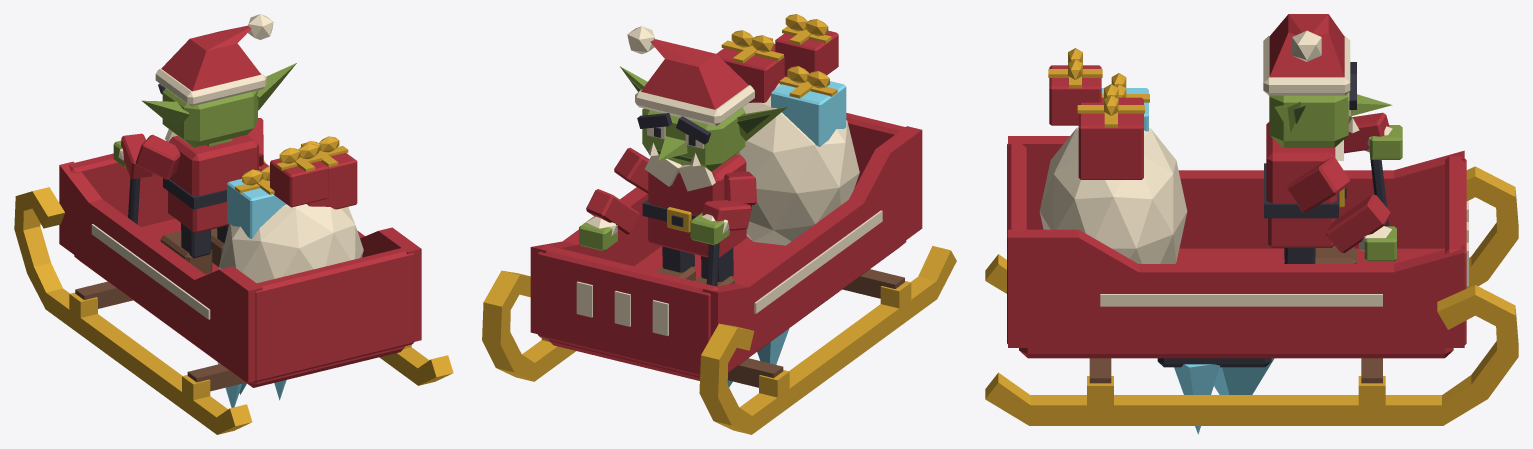
Rendered from SleighThief.fbx.
3 views of the same model, side by side, from view 1: azimuth 30°, elevation 25°; view 2: azimuth 150°, elevation 25°; view 3: azimuth 270°, elevation 25° (orthographic). The views are drawn at different scales.
Parts seen in each view (by area): view 1: Hull_Rear, Hull_Side_1, Runner_R, Sack, Hat, Coat_Torso, Head, Hull_Front, Gift_2, Gift_1, Hull_Floor, Hull_Side_-1 (+18 smaller); view 2: Hull_Side_1, Hull_Front, Sack, Runner_R, Runner_L, Hat, Hull_Side_-1, Hull_Floor, Gift_1, Head, Coat_Torso, Hat_Trim (+29 smaller); view 3: Hull_Side_-1, Runner_L, Hull_Side_1, Sack, Hull_Floor, Gift_0, Runner_R, Hat, Cream_Side_Inlay_-1, Head, Coat_Torso, Hull_Front (+21 smaller).
Boxes of the visible parts, x1,y1,x2,y2 form: Hull_Rear: (251,247,414,382); Hull_Side_1: (59,161,262,382); Runner_R: (14,187,252,434); Sack: (219,204,363,283); Hat: (161,25,260,91); Coat_Torso: (169,135,258,196); Head: (162,88,257,147); Hull_Front: (69,140,174,226); Gift_2: (270,158,328,207); Gift_1: (227,179,286,238); Hull_Floor: (74,219,405,387); Hull_Side_-1: (261,162,421,341); Hull_Side_1: (702,126,922,370); Hull_Front: (537,245,718,376); Sack: (736,83,859,245); Runner_R: (699,246,956,434); Runner_L: (482,270,575,381); Hat: (641,39,748,109); Hull_Side_-1: (530,187,660,333); Hull_Floor: (548,236,906,380); Gift_1: (771,81,846,146); Head: (642,107,745,171); Coat_Torso: (648,154,746,215); Hat_Trim: (635,85,754,126); Hull_Side_-1: (1008,229,1464,347); Runner_L: (985,285,1518,425); Hull_Side_1: (1008,136,1464,248); Sack: (1039,127,1187,263); Hull_Floor: (1019,248,1453,358); Gift_0: (1078,97,1143,179); Runner_R: (985,166,1518,293); Hat: (1269,14,1344,77); Cream_Side_Inlay_-1: (1100,294,1382,306); Head: (1269,92,1348,147); Coat_Torso: (1266,122,1336,203); Hull_Front: (1445,156,1466,344).
Size of the model in its own units: 2.8 by 4.26 by 4.91.
